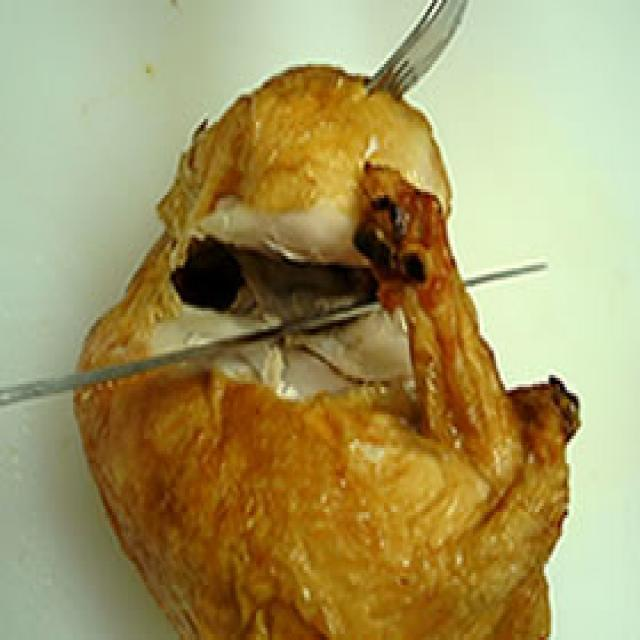Chicken roast: (32, 76, 578, 640)
